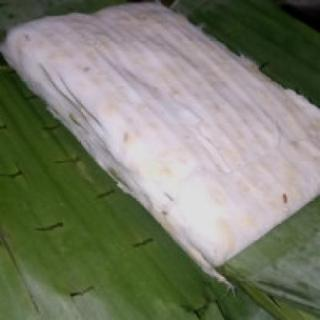Tempe: (1, 1, 320, 272)
